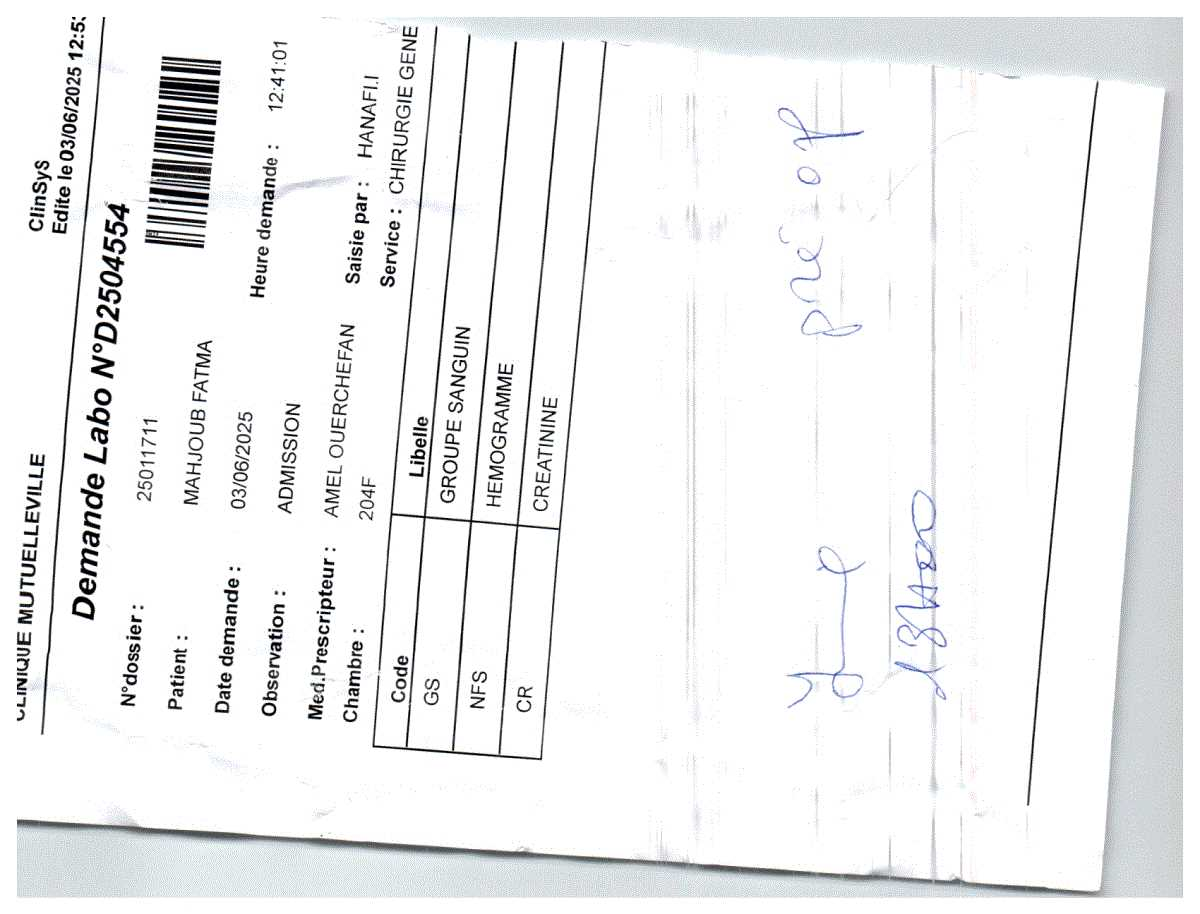zone_analyses: (427, 72, 1031, 783)
zone_date: (221, 401, 260, 510)
zone_patient: (172, 331, 222, 716)
zone_prescripteur: (321, 320, 369, 721)
